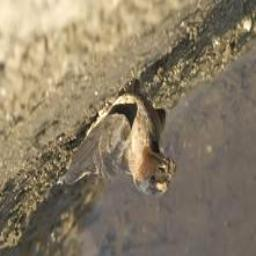Swallow: (61, 87, 176, 200)
